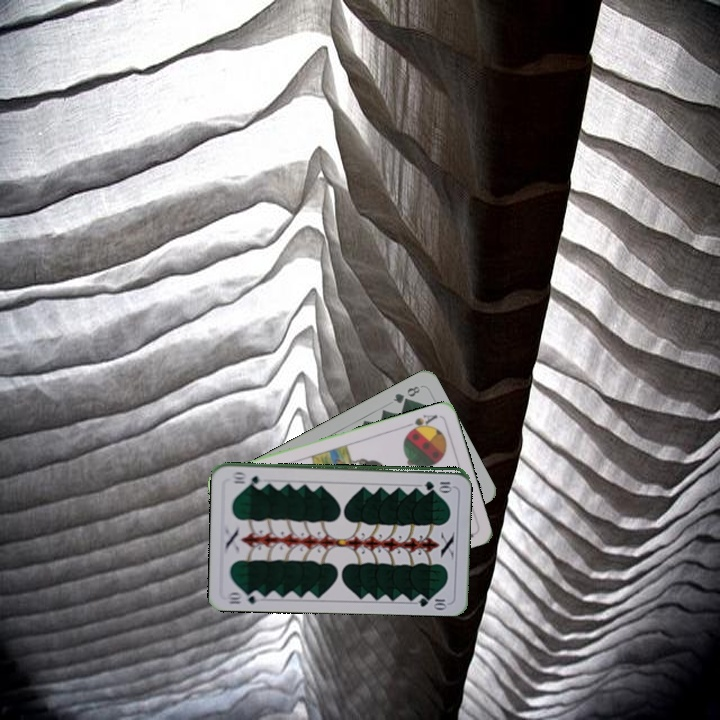G10: (225, 587, 264, 606), (420, 477, 454, 490)
G8: (389, 382, 423, 406)
SA: (401, 410, 440, 436)
